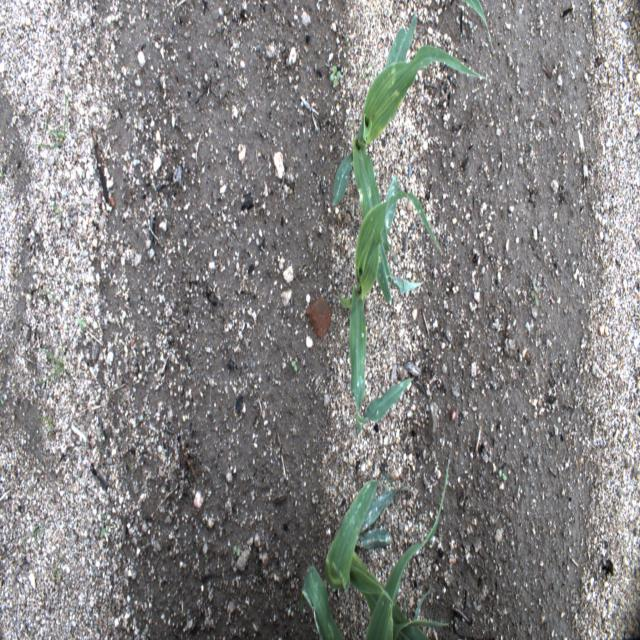crop: (332, 14, 488, 302), (300, 458, 450, 640), (337, 190, 443, 430), (324, 472, 437, 639), (461, 0, 492, 52)
weed: (31, 94, 67, 149), (34, 338, 69, 387), (20, 523, 44, 548), (354, 61, 378, 85), (36, 416, 54, 439), (341, 29, 348, 82), (41, 282, 57, 305), (531, 277, 542, 309), (328, 64, 342, 88), (52, 556, 64, 579), (352, 62, 367, 80), (48, 202, 62, 220), (100, 513, 110, 536), (496, 468, 507, 483), (290, 358, 298, 374), (232, 542, 240, 558), (77, 318, 86, 330), (0, 393, 5, 408), (0, 165, 4, 183)
